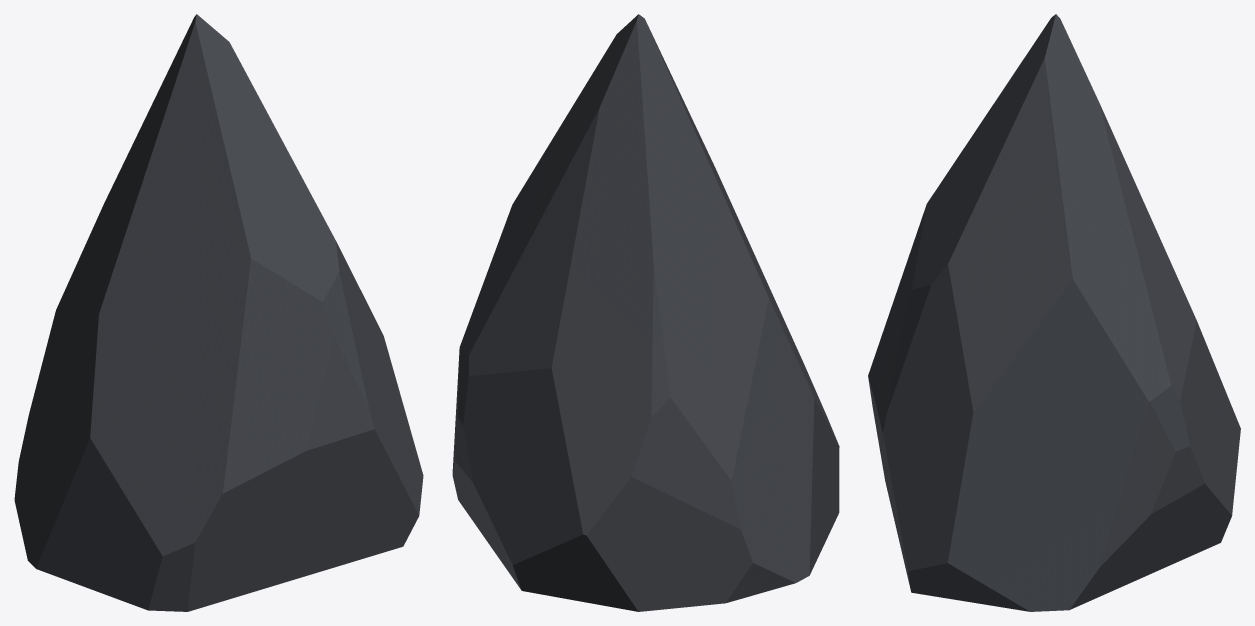
File: rock9.obj
The picture shows the model from 3 angles, left to right: view 1: azimuth 30°, elevation 25°; view 2: azimuth 150°, elevation 25°; view 3: azimuth 270°, elevation 25°; orthographic projection. The views are drawn at different scales.
Bounding box in the file's own units: 2.66 × 3.86 × 2.54.
Materials: 1 (1 with a texture image).
